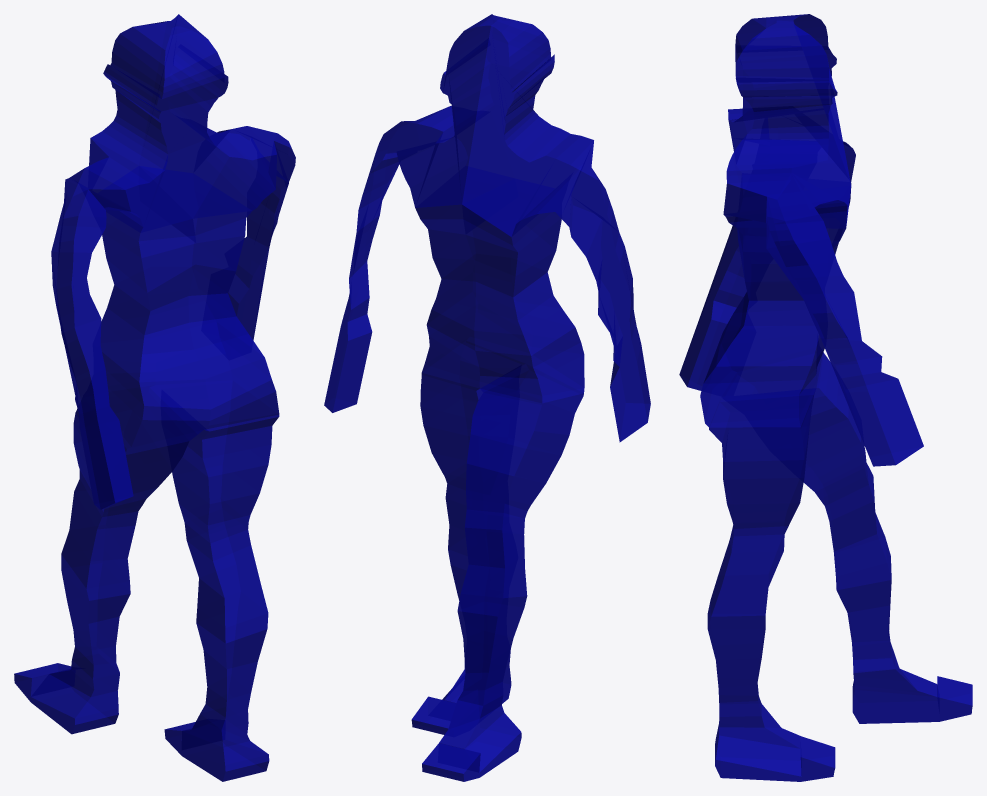
File: woman_000009.obj
3 views of the same model, side by side, from view 1: azimuth 30°, elevation 25°; view 2: azimuth 150°, elevation 25°; view 3: azimuth 270°, elevation 25° (orthographic). The views are drawn at different scales.
Visible parts, largest first — view 1: Cube_Cube.001; view 2: Cube_Cube.001; view 3: Cube_Cube.001.
Boxes of the visible parts, <box> form: Cube_Cube.001: <box>14,14,295,781</box>; Cube_Cube.001: <box>324,14,650,781</box>; Cube_Cube.001: <box>679,14,972,781</box>.
Size of the model in its own units: 3.52 by 9.95 by 3.62.
